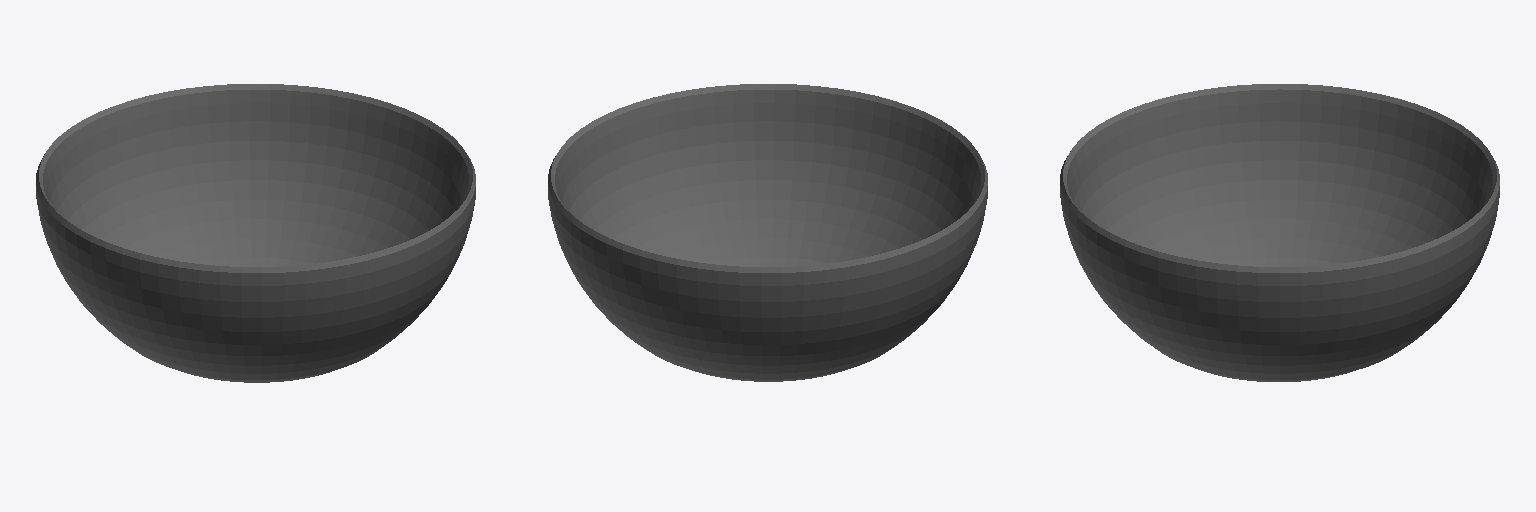
File: bowl.obj
3 views of the same model, side by side, from view 1: azimuth 30°, elevation 25°; view 2: azimuth 150°, elevation 25°; view 3: azimuth 270°, elevation 25° (orthographic).
Visible parts, largest first — view 1: Sphere.001; view 2: Sphere.001; view 3: Sphere.001.
Boxes of the visible parts, x1,y1,x2,y2 form: Sphere.001: [36, 84, 475, 382]; Sphere.001: [548, 84, 987, 381]; Sphere.001: [1060, 84, 1499, 381].
Bounding box in the file's own units: 0.2269 × 0.0916 × 0.2269.